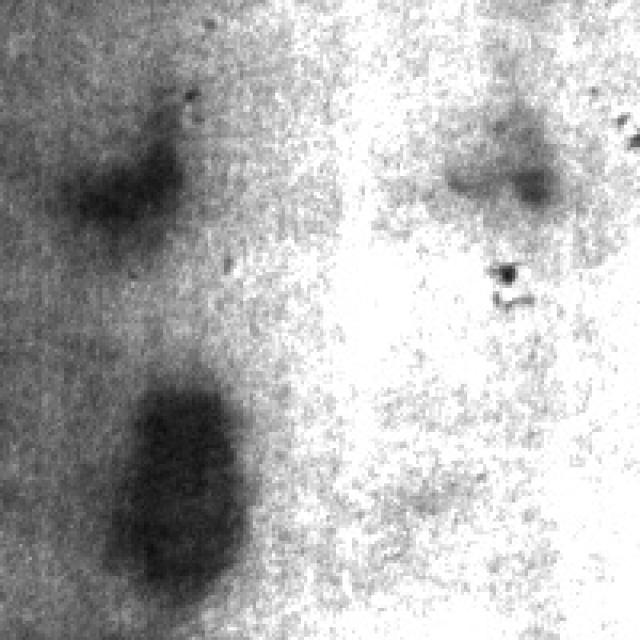patches: (102, 374, 244, 612), (54, 125, 180, 256)
